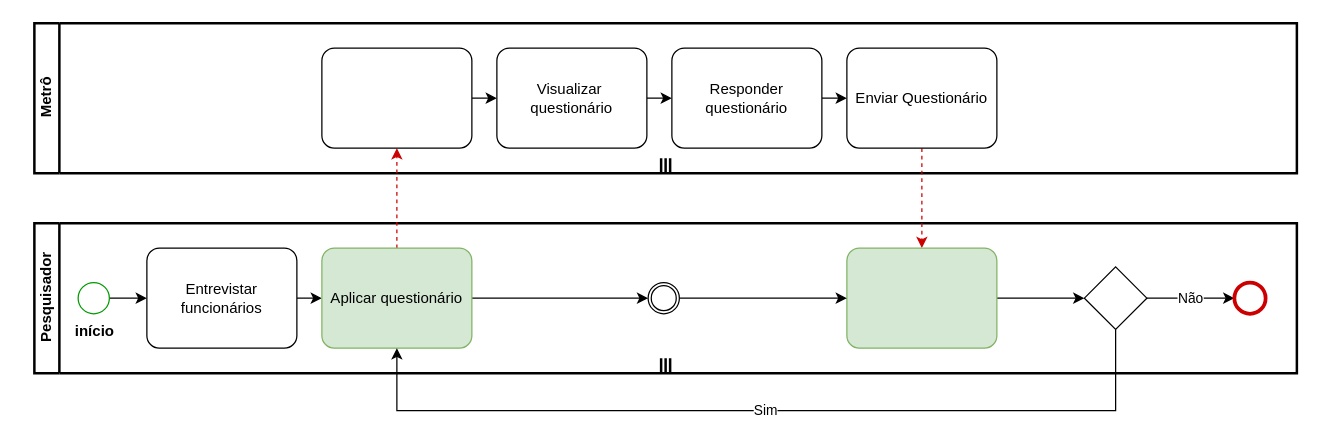
Some shapes in this 1319 by 443 pixel diagram are drawn without their labels. Here are the shapes that lost their labels. From the top down, the box of each, then its label:
(321, 47, 472, 148): Receber questionário
(846, 247, 997, 348): Validar dados
(1083, 266, 1147, 329): Há necessidade de reaplicação?
